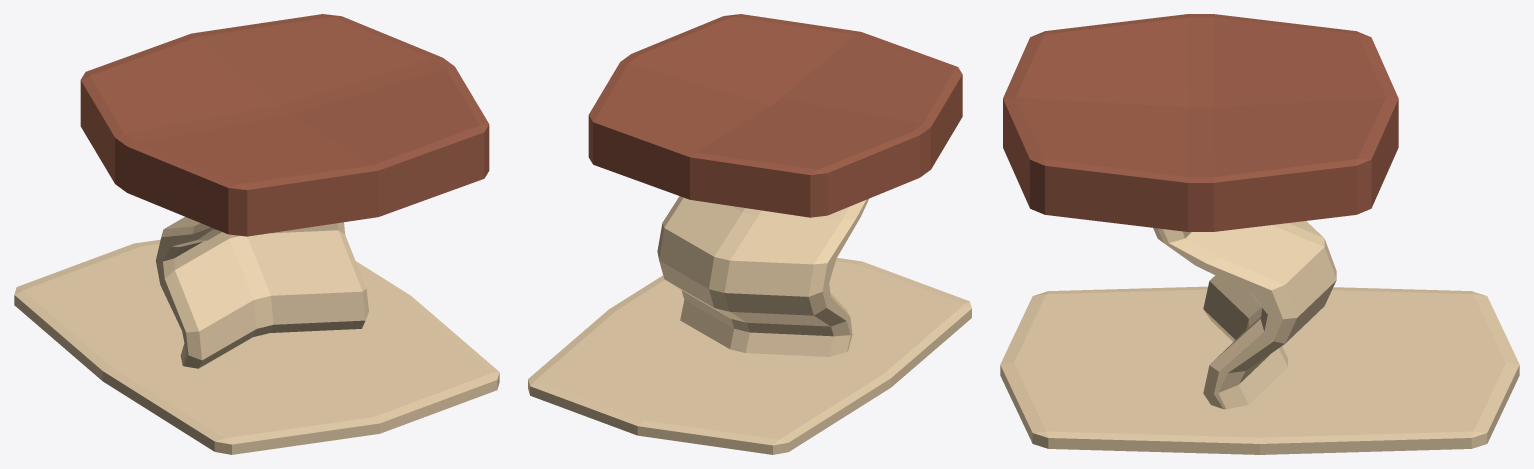
File: seatA.glb
3 views of the same model, side by side, from view 1: azimuth 30°, elevation 25°; view 2: azimuth 150°, elevation 25°; view 3: azimuth 270°, elevation 25° (orthographic). The views are drawn at different scales.
Parts seen in each view (by area): view 1: Cube.004; view 2: Cube.004; view 3: Cube.004.
Part boxes in pixels (bbox=[...]): Cube.004: bbox=[14, 14, 499, 454]; Cube.004: bbox=[528, 14, 971, 454]; Cube.004: bbox=[1000, 14, 1519, 454].
Bounding box in the file's own units: 3.63 × 2.81 × 4.72.
